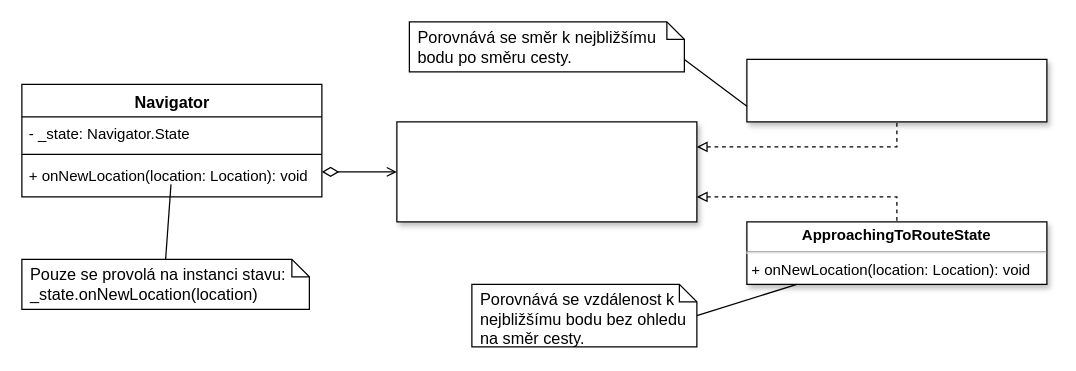
This 1076x371 diagram has some shape labels left out. The shapes that lost their labels are listed below. From the top down, each one's centre as x and y in pixels, then its label:
the point at 897,92: OnRouteState + onNewLocation(location: Location): void
the point at 547,173: <<interface>> Navigator.State + onNewLocation(location: Location): void
